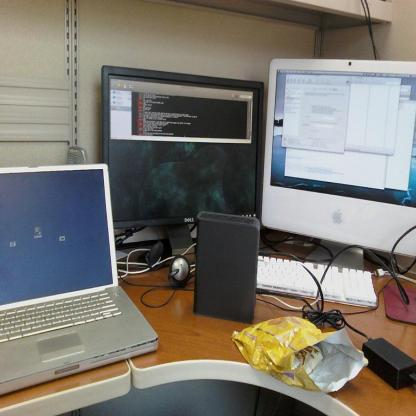board: (2, 160, 150, 393)
